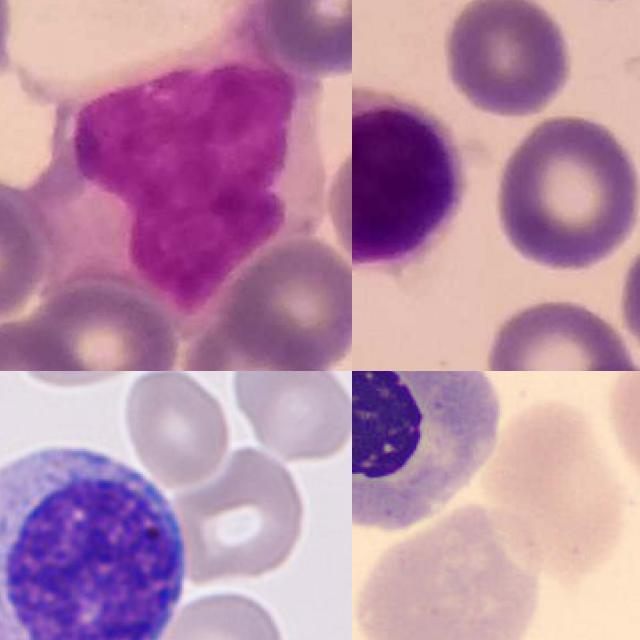Lymphocyte: (0, 433, 198, 640), (352, 371, 512, 539), (352, 82, 467, 268)
Monocyte: (22, 19, 327, 313)
RBC: (475, 391, 633, 580), (352, 502, 549, 640), (171, 442, 312, 590), (120, 371, 232, 490), (226, 371, 352, 465), (139, 588, 286, 640), (599, 371, 640, 498)
